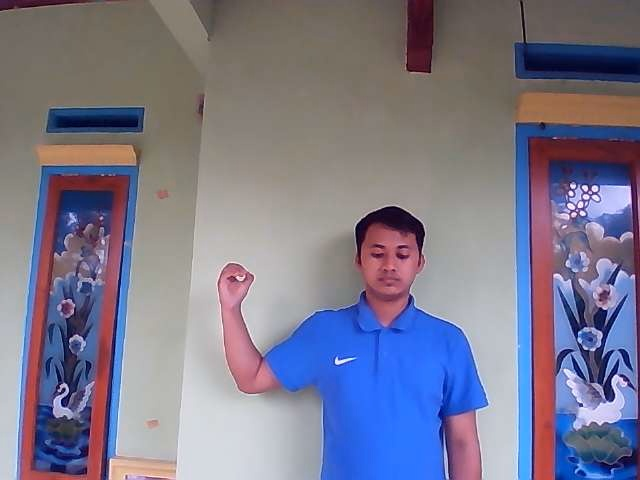O: (215, 262, 255, 306)
